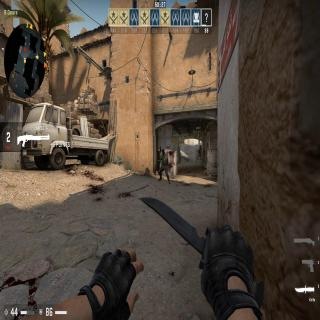CT-Body: (158, 147, 171, 183), (198, 148, 202, 160)
CT-Head: (161, 148, 165, 155), (200, 144, 202, 147), (199, 148, 201, 150)
